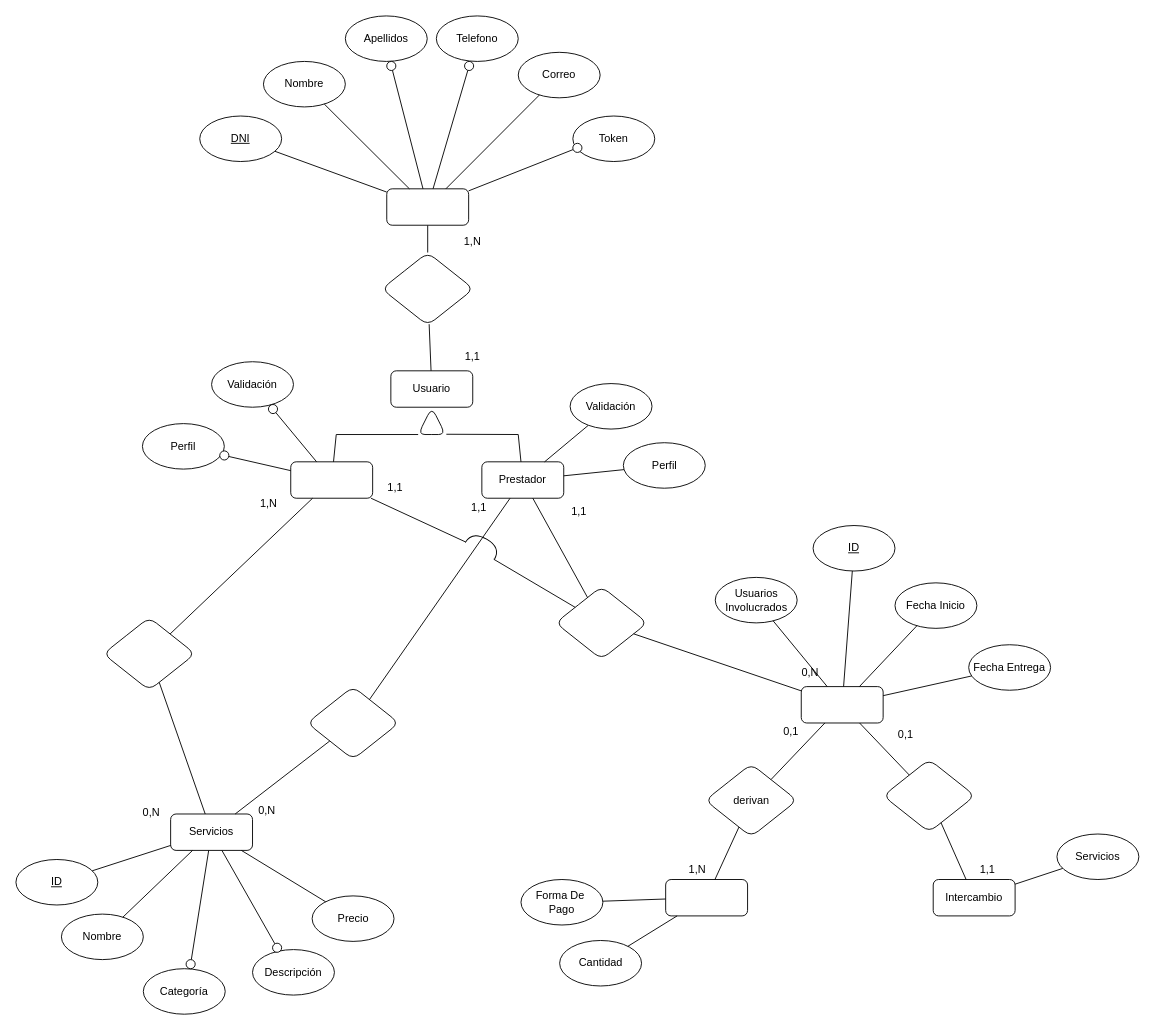
The diagram is 1155 pixels wide and 1030 high, and some of its shapes have lost their labels. The centre of each missing label's shape, as x and y in pixels:
"Acuerdo" goes at pixel 841 704.
"busca" goes at pixel 148 653.
"Consumidor" goes at pixel 331 479.
"Cuenta" goes at pixel 427 206.
"favorecen" goes at pixel 928 795.
"llegan" goes at pixel 601 622.
"ofrece" goes at pixel 352 722.
"Pago" goes at pixel 706 897.
"tiene" goes at pixel 427 288.
